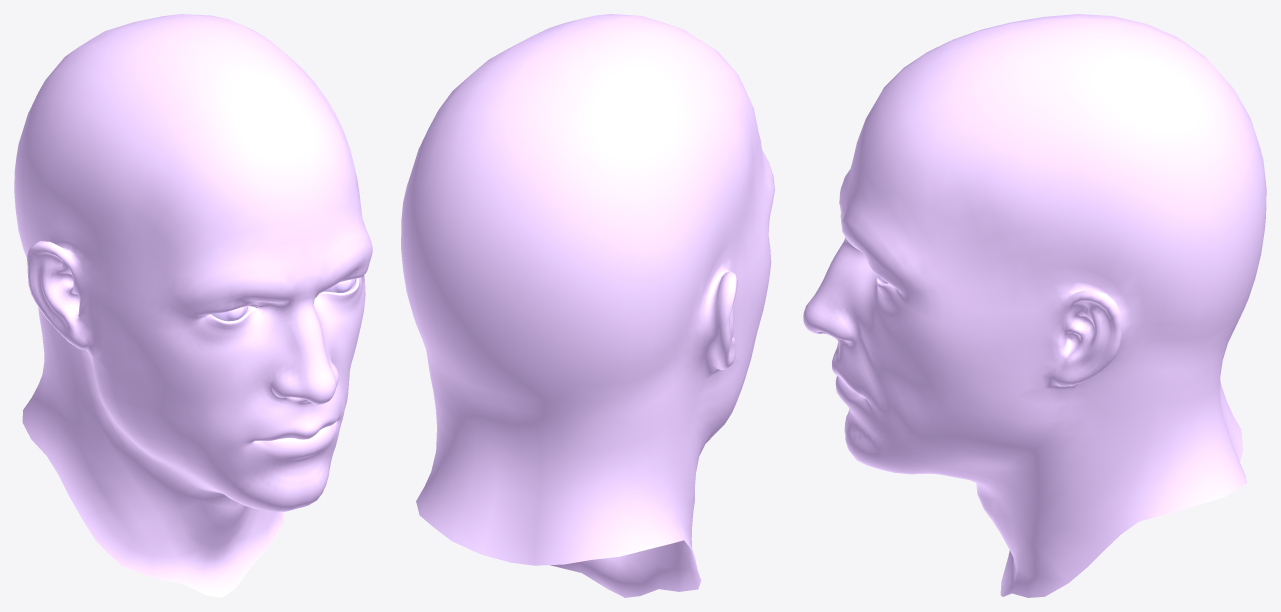
Rendered from human_head.glb.
3 renders of one model, left to right at view 1: azimuth 30°, elevation 25°; view 2: azimuth 150°, elevation 25°; view 3: azimuth 270°, elevation 25°, orthographic. The views are drawn at different scales.
Visible parts, largest first — view 1: man_body_0014 uv map; view 2: man_body_0014 uv map; view 3: man_body_0014 uv map.
Part boxes in pixels (left/top/right/bottom): man_body_0014 uv map: left=14, top=14, right=372, bottom=597; man_body_0014 uv map: left=401, top=14, right=774, bottom=597; man_body_0014 uv map: left=803, top=14, right=1266, bottom=597.
Bounding box in the file's own units: 0.1766 × 0.3089 × 0.2292.
